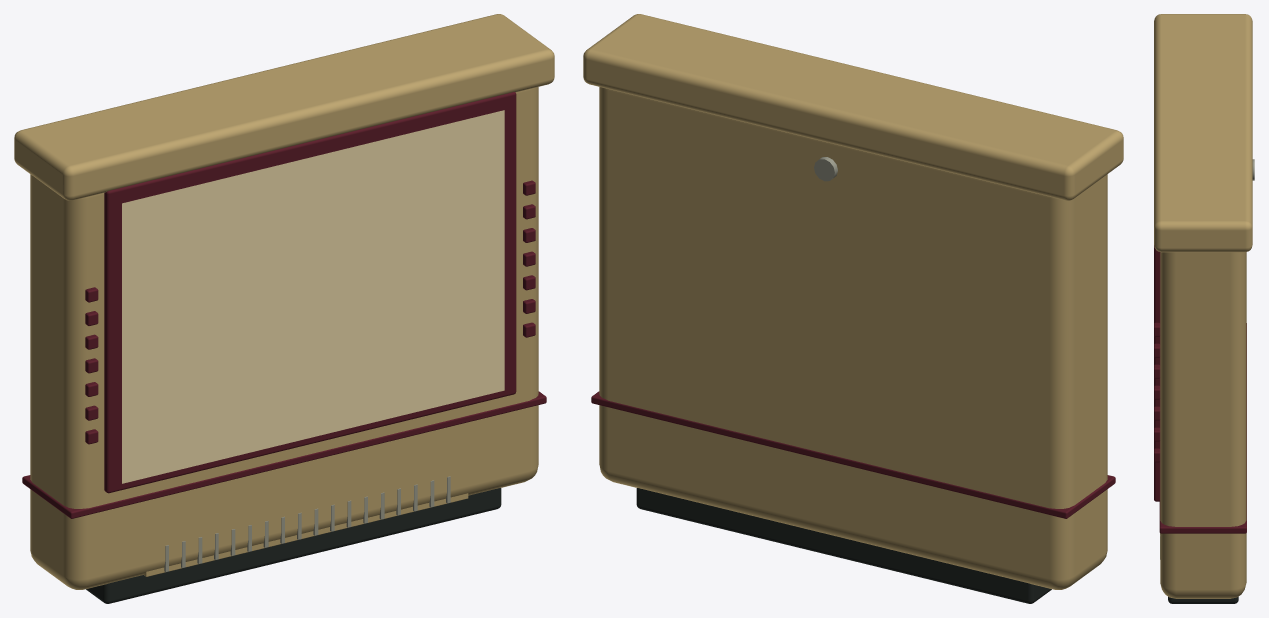
The model's file is cartridge.glb.
3 renders of one model, left to right at view 1: azimuth 30°, elevation 25°; view 2: azimuth 150°, elevation 25°; view 3: azimuth 270°, elevation 25°, orthographic. The views are drawn at different scales.
Visible parts, largest first — view 1: cart_art, cart_shell, cart_top_lip, cart_label_inset, cart_title, static_222825, static_581b27, static_989889, static_b8a06b; view 2: cart_shell, cart_top_lip, static_222825, static_581b27; view 3: cart_shell, cart_top_lip, static_581b27, cart_label_inset, static_222825.
Part boxes in pixels (<box>): cart_art: <box>122,110,504,445</box>; cart_shell: <box>30,87,538,589</box>; cart_top_lip: <box>14,14,554,200</box>; cart_label_inset: <box>104,92,516,493</box>; cart_title: <box>122,353,504,483</box>; static_222825: <box>86,488,501,603</box>; static_581b27: <box>22,180,546,518</box>; static_989889: <box>164,476,450,572</box>; static_b8a06b: <box>144,493,468,576</box>; cart_shell: <box>599,87,1107,589</box>; cart_top_lip: <box>583,14,1123,200</box>; static_222825: <box>636,488,1051,603</box>; static_581b27: <box>591,391,1115,518</box>; cart_shell: <box>1160,252,1246,598</box>; cart_top_lip: <box>1154,14,1252,252</box>; static_581b27: <box>1154,322,1246,533</box>; cart_label_inset: <box>1154,245,1160,501</box>; static_222825: <box>1168,596,1238,603</box>.
Size of the model in its own units: 1.63 by 1.44 by 0.333.
